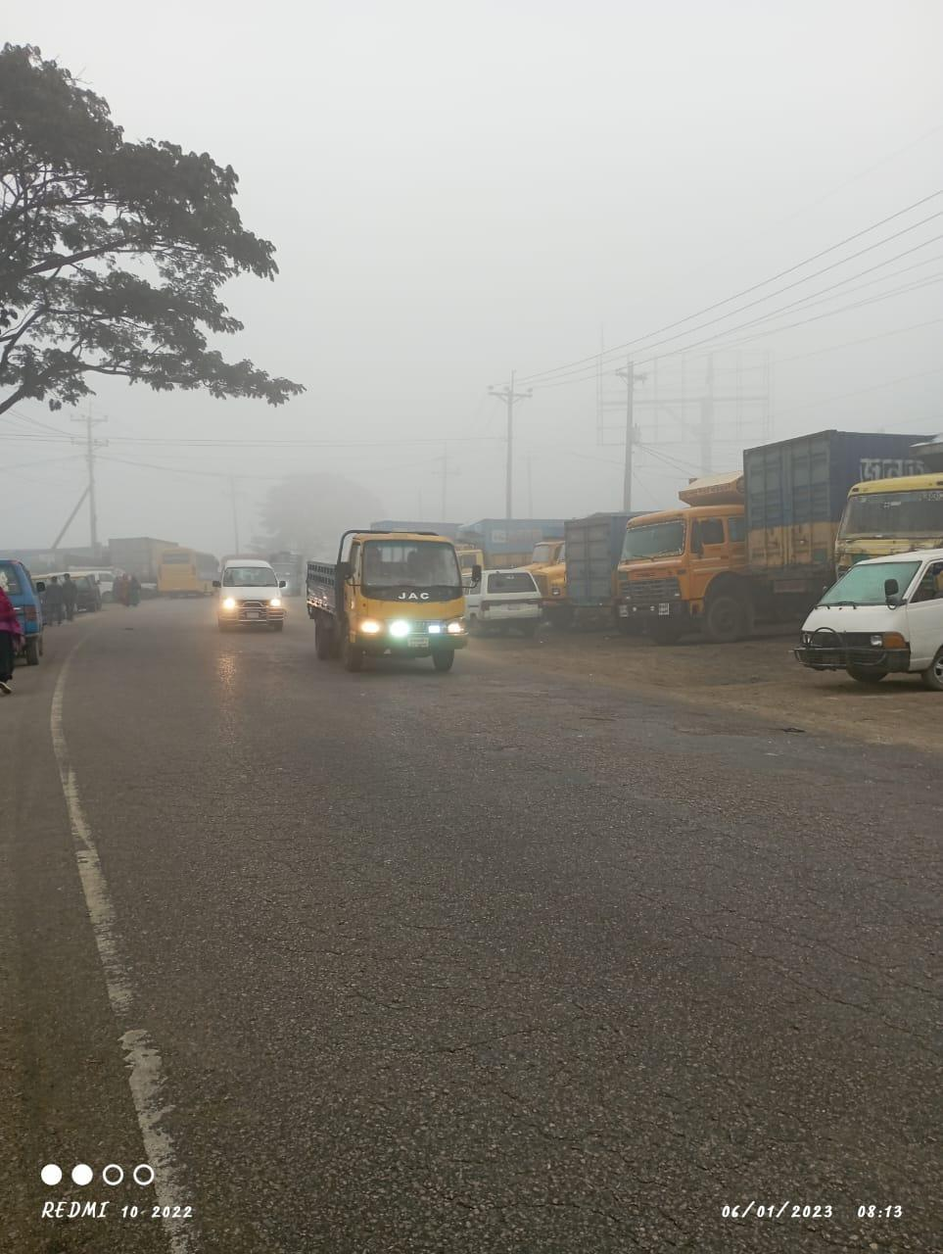Car: (785, 541, 943, 702), (210, 544, 298, 639)
Truck: (616, 463, 750, 648), (304, 526, 474, 669), (738, 423, 873, 603)
